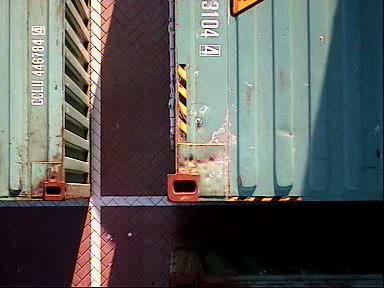groundmarker_2: (193, 23, 248, 117)
